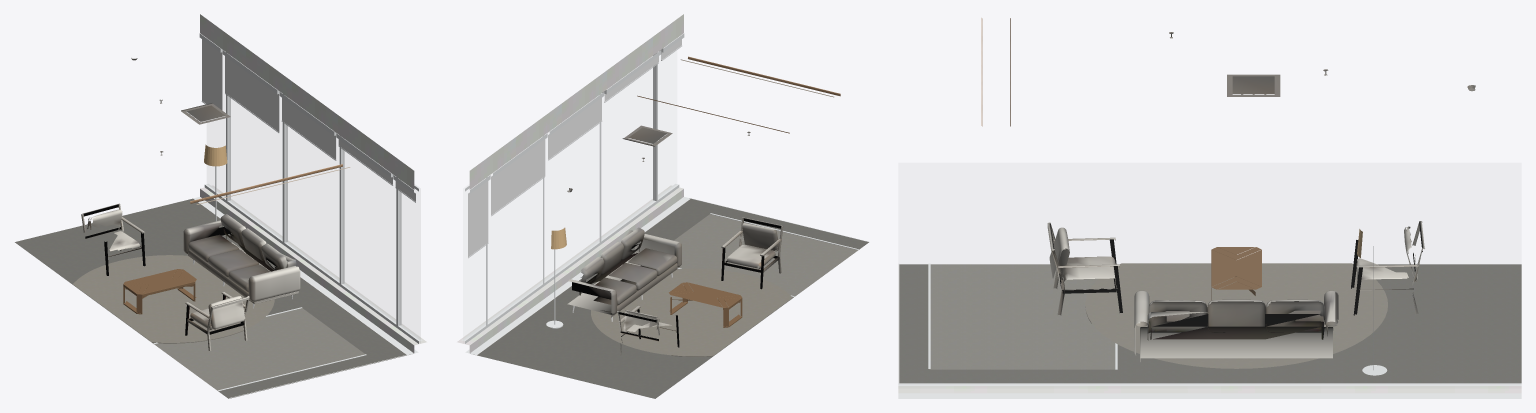
Rendered from z-final-lite.full.a0de964f.glb.
The picture shows the model from 3 angles, left to right: view 1: azimuth 30°, elevation 25°; view 2: azimuth 150°, elevation 25°; view 3: azimuth 270°, elevation 25°; orthographic projection. The views are drawn at different scales.
Visible parts, largest first — view 1: final_carpet, final_satin, final_fx, final_plaster, final_modern_coffee_table_01, final_emit, final_oak, final_metal_lit; view 2: final_carpet, final_satin, final_fx, final_plaster, final_modern_coffee_table_01, final_oak, final_metal_lit, final_emit; view 3: final_carpet, final_fx, final_satin, final_plaster, final_modern_coffee_table_01.
Part boxes in pixels (bbox=[...]): final_carpet: bbox=[15, 198, 413, 398]; final_satin: bbox=[153, 33, 422, 391]; final_fx: bbox=[81, 58, 300, 350]; final_plaster: bbox=[200, 14, 426, 352]; final_modern_coffee_table_01: bbox=[123, 269, 196, 314]; final_emit: bbox=[196, 144, 350, 204]; final_oak: bbox=[190, 164, 342, 203]; final_metal_lit: bbox=[193, 198, 408, 398]; final_carpet: bbox=[470, 199, 868, 398]; final_satin: bbox=[461, 33, 858, 354]; final_fx: bbox=[567, 125, 783, 355]; final_plaster: bbox=[457, 14, 683, 352]; final_modern_coffee_table_01: bbox=[669, 282, 742, 327]; final_oak: bbox=[637, 56, 840, 133]; final_metal_lit: bbox=[476, 198, 868, 354]; final_emit: bbox=[551, 59, 833, 249]; final_carpet: bbox=[899, 263, 1521, 383]; final_fx: bbox=[1047, 32, 1475, 361]; final_satin: bbox=[898, 246, 1521, 398]; final_plaster: bbox=[898, 386, 1521, 393]; final_modern_coffee_table_01: bbox=[1211, 247, 1261, 300].
Bounding box in the file's own units: 3.75 × 3.3 × 7.
9 materials, 4 textured.
